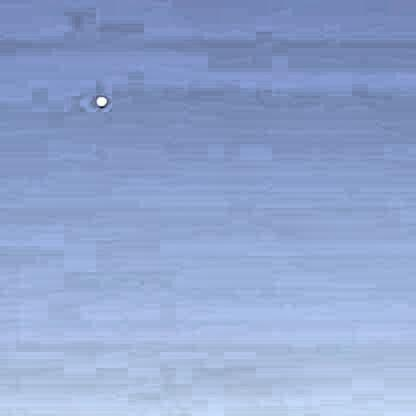golfball: (92, 93, 106, 105)
